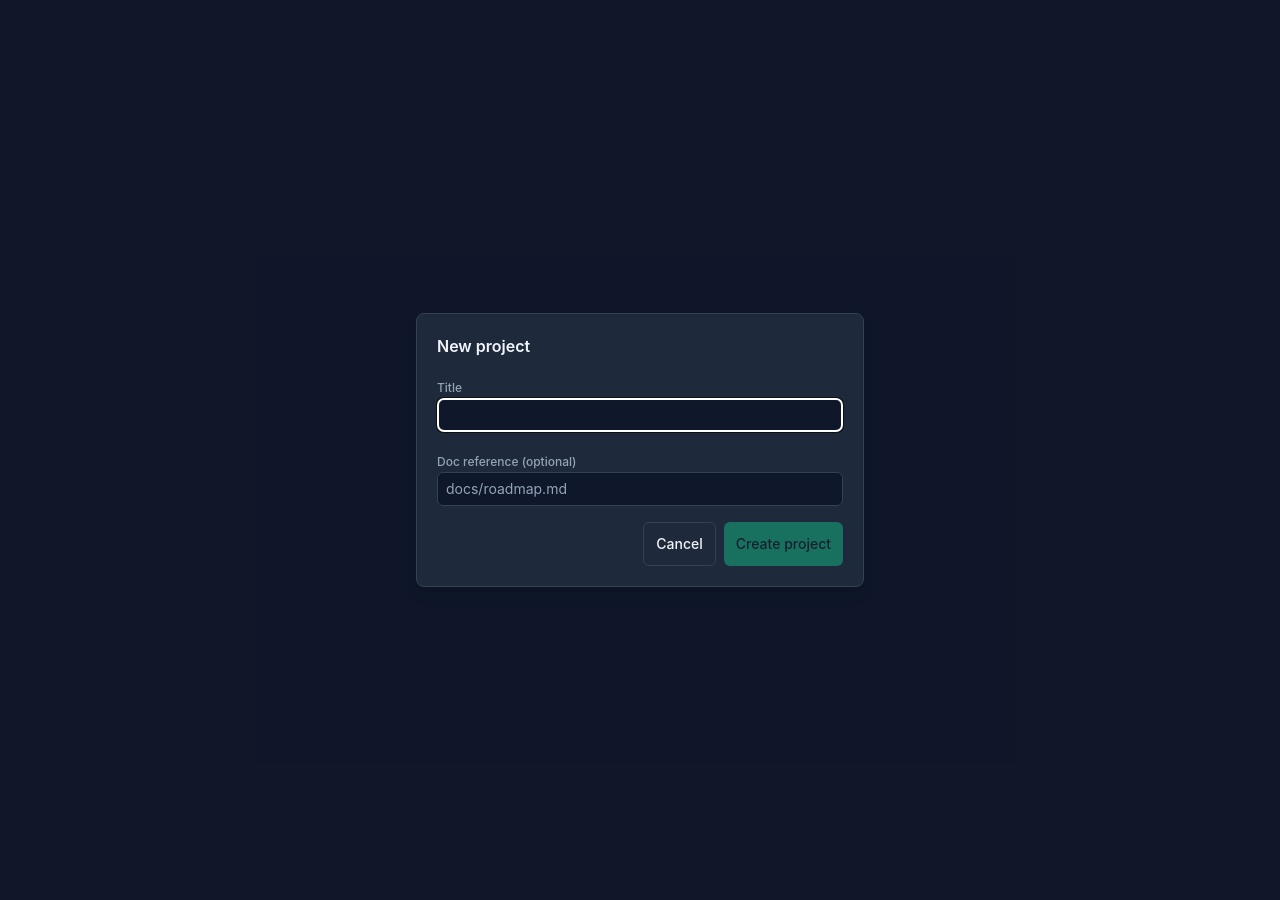
Test: NewProjectModal › disables Create project until a title is entered
Check: the button with test id "new-project-submit" is disabled, box [724,522,843,566]
In the field with test id "new-project-title": (640, 415) [437,398,843,432], type "New Thing"
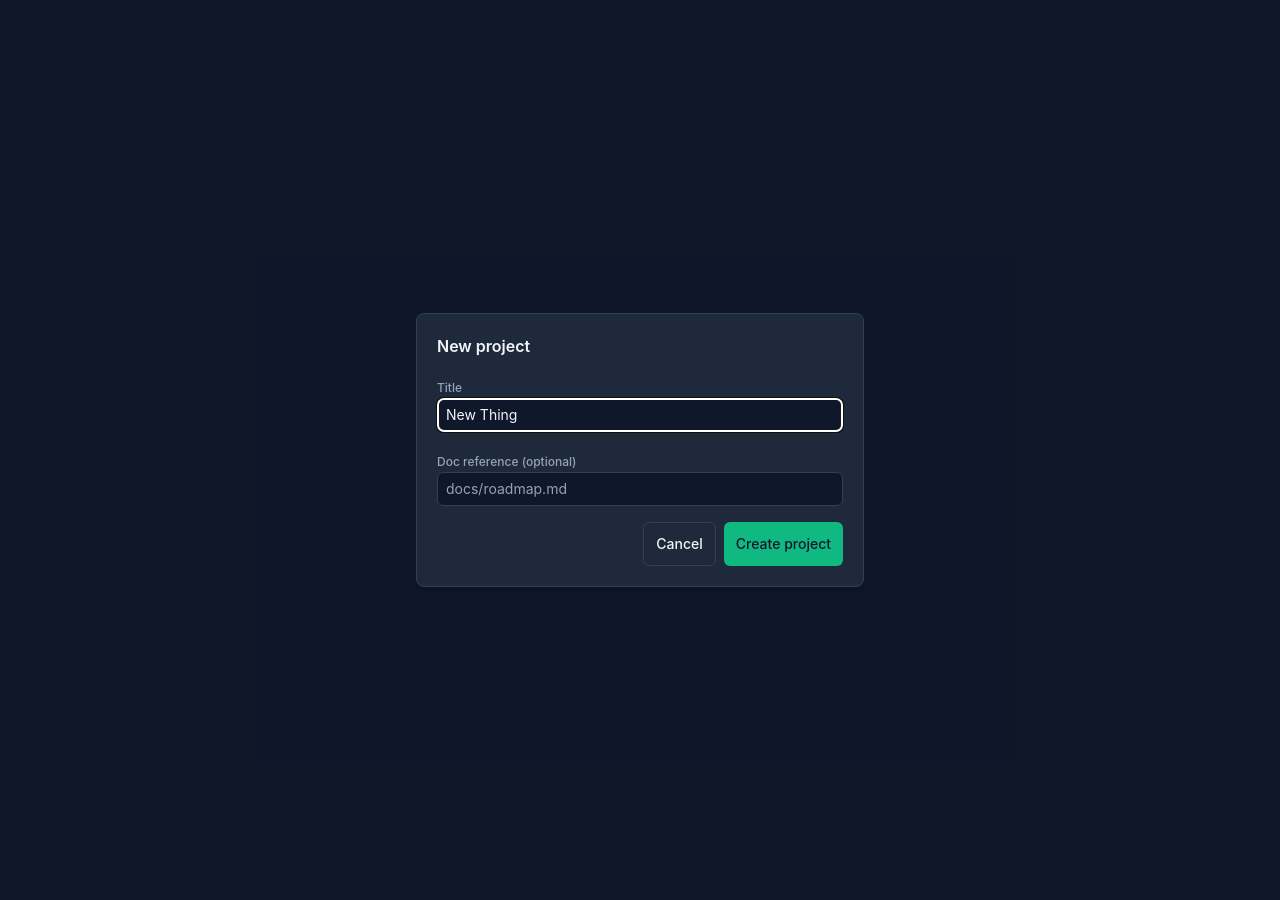
Check: the button with test id "new-project-submit" is enabled, box [724,522,843,566]
